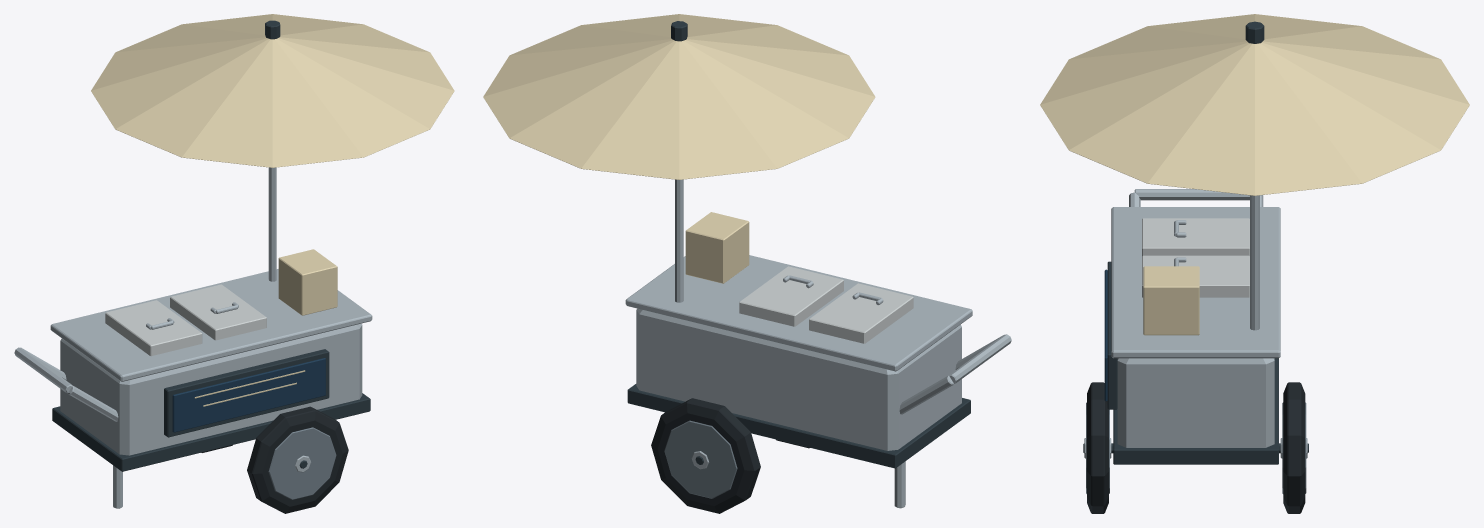
File: b10_hot_dog_pushcart.glb
The picture shows the model from 3 angles, left to right: view 1: azimuth 30°, elevation 25°; view 2: azimuth 150°, elevation 25°; view 3: azimuth 270°, elevation 25°; orthographic projection. The views are drawn at different scales.
Visible parts, largest first — view 1: b10_hot_dog_pushcart; view 2: b10_hot_dog_pushcart; view 3: b10_hot_dog_pushcart.
Part boxes in pixels (box(x1,y1,x2,y2)): b10_hot_dog_pushcart: box(14, 14, 454, 513); b10_hot_dog_pushcart: box(483, 14, 1011, 513); b10_hot_dog_pushcart: box(1040, 14, 1469, 513).
Size of the model in its own units: 2.31 by 2.27 by 1.75.
